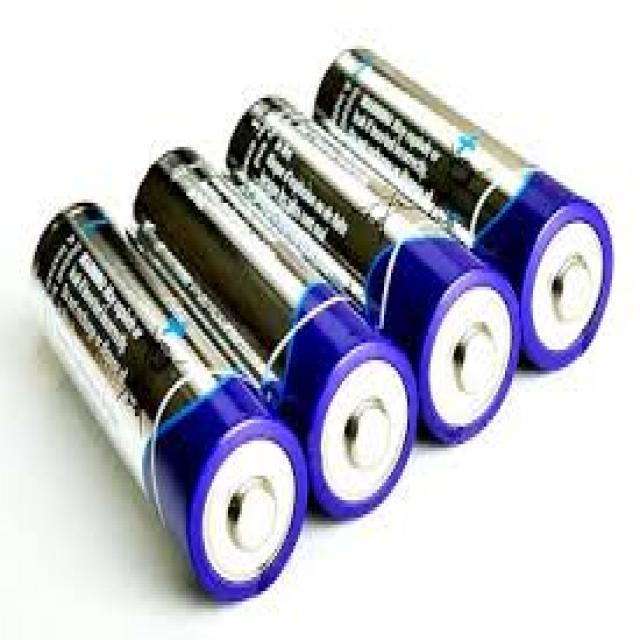non-organic waste: (30, 197, 308, 603), (132, 148, 418, 518), (224, 96, 522, 450), (312, 49, 613, 372)
